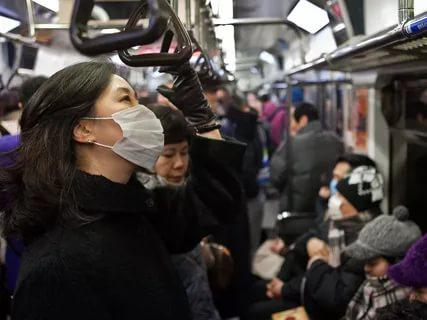correctlyWear: (73, 69, 166, 178), (327, 183, 359, 219)
noWear: (158, 136, 191, 186), (361, 251, 391, 280)
